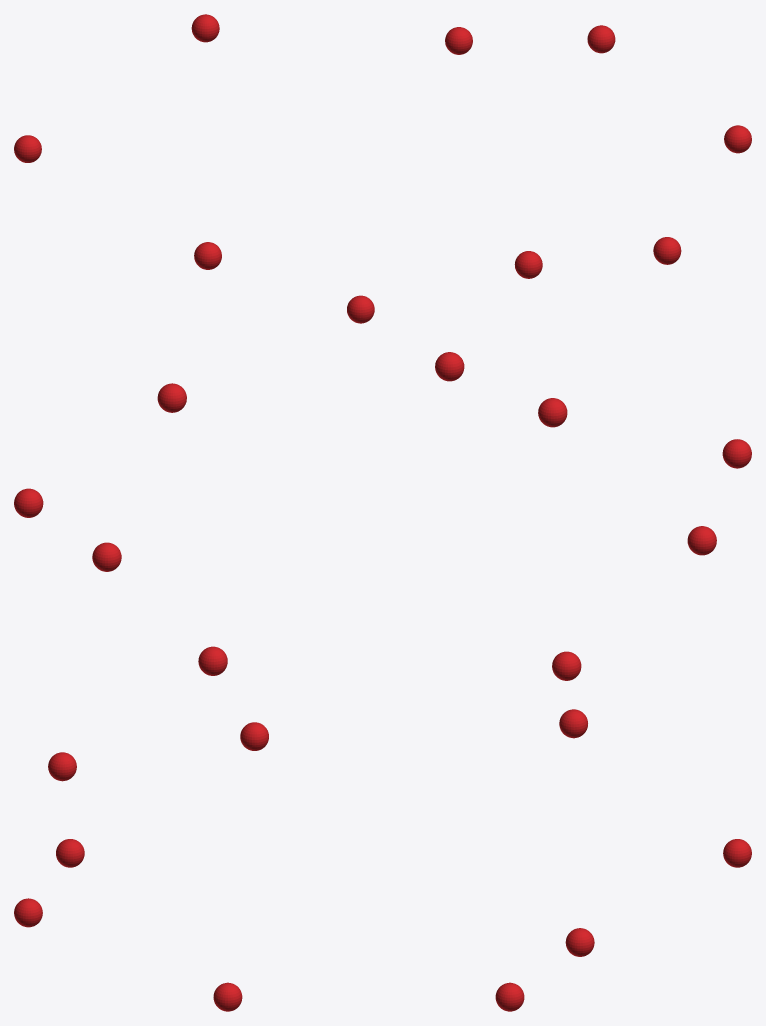
File: Largespawnpoints.fbx
3 views of the same model, one above another, from view 1: azimuth 30°, elevation 25°; view 2: azimuth 150°, elevation 25°; view 3: azimuth 270°, elevation 25° (orthographic). The views are drawn at different scales.
Visible parts, largest first — view 1: Larges; view 2: Larges; view 3: Larges.
Boxes of the visible parts, left/top/right/bottom form: Larges: left=14, top=14, right=751, bottom=323; Larges: left=14, top=352, right=751, bottom=680; Larges: left=14, top=709, right=751, bottom=1011.
Bounding box in the file's own units: 1325 × 56.64 × 1446.
